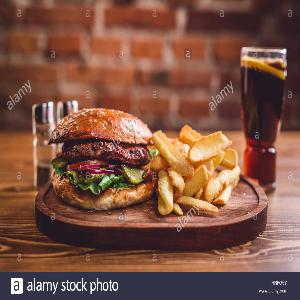cheeseburger_475cal: (37, 98, 161, 209)
fries_350cal: (151, 119, 244, 218)
